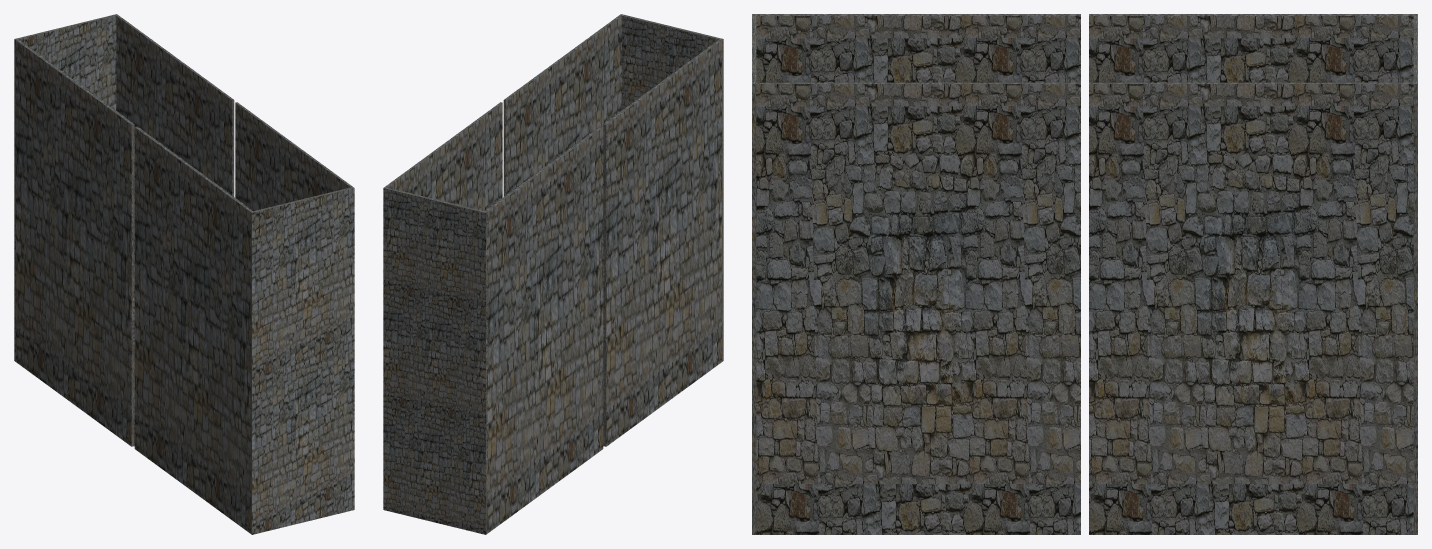
Rendered from 2x8construction.glb.
The picture shows the model from 3 angles, left to right: view 1: azimuth 30°, elevation 25°; view 2: azimuth 150°, elevation 25°; view 3: azimuth 270°, elevation 25°; orthographic projection. The views are drawn at different scales.
Parts seen in each view (by area): view 1: Cube.002; view 2: Cube.002; view 3: Cube.002.
Part boxes in pixels (left/top/right/bottom): Cube.002: left=14, top=14, right=354, bottom=534; Cube.002: left=383, top=14, right=723, bottom=534; Cube.002: left=752, top=14, right=1417, bottom=534.
Bounding box in the file's own units: 1.99 × 5.98 × 8.
1 material, 1 textured.
